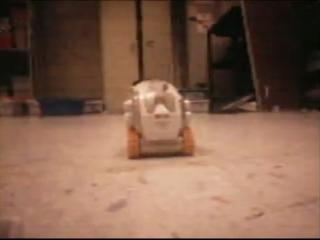cozmo: (122, 78, 195, 159)
